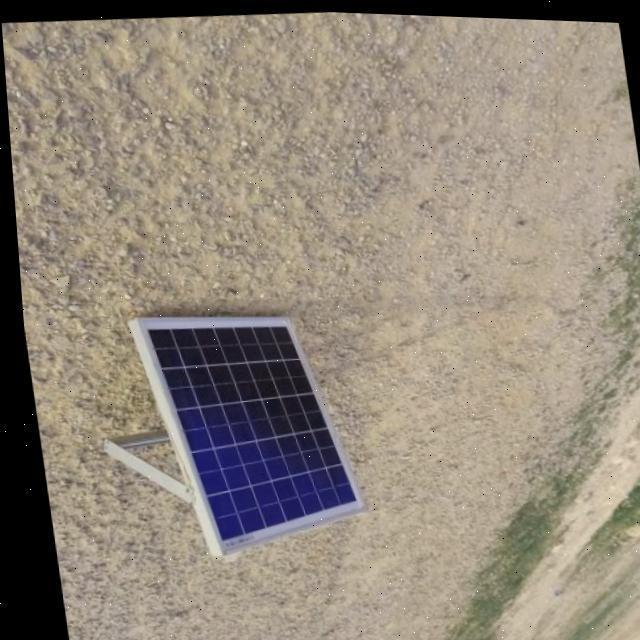Normal Solar Panel: (130, 304, 360, 556)
